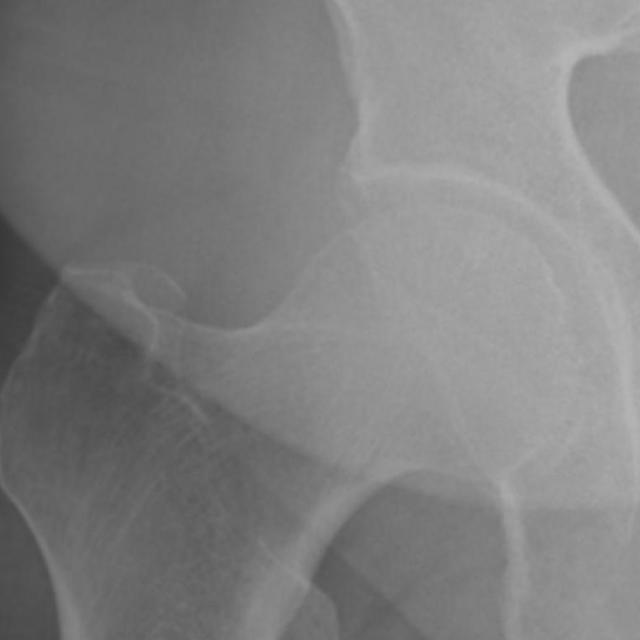Fitted_femural_head: (289, 203, 432, 289)
